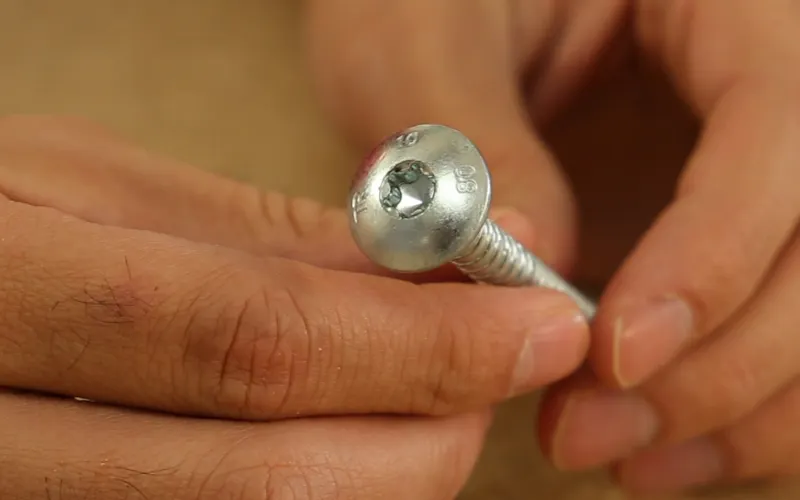tornillo: (292, 188, 428, 322)
